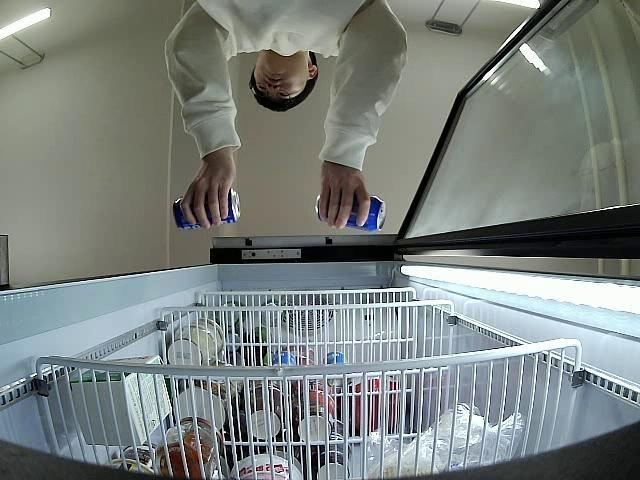13_pocariSweat: (170, 186, 242, 230), (318, 190, 386, 230)
